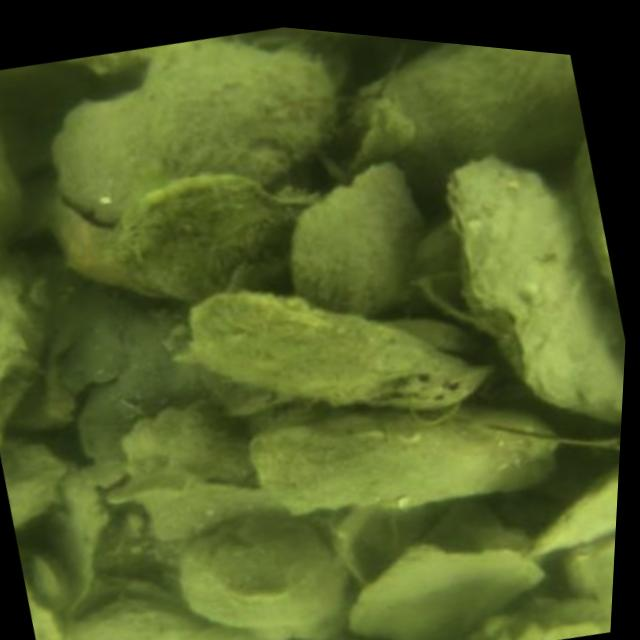Oyster-Closed: (31, 547, 71, 615)
Oyster-Indeterminate: (52, 34, 340, 221), (439, 147, 625, 427), (349, 43, 582, 201), (187, 289, 491, 410), (245, 406, 563, 515), (106, 172, 325, 304), (179, 511, 350, 640), (288, 153, 424, 314), (59, 593, 285, 640), (523, 466, 619, 561), (0, 129, 34, 278)
